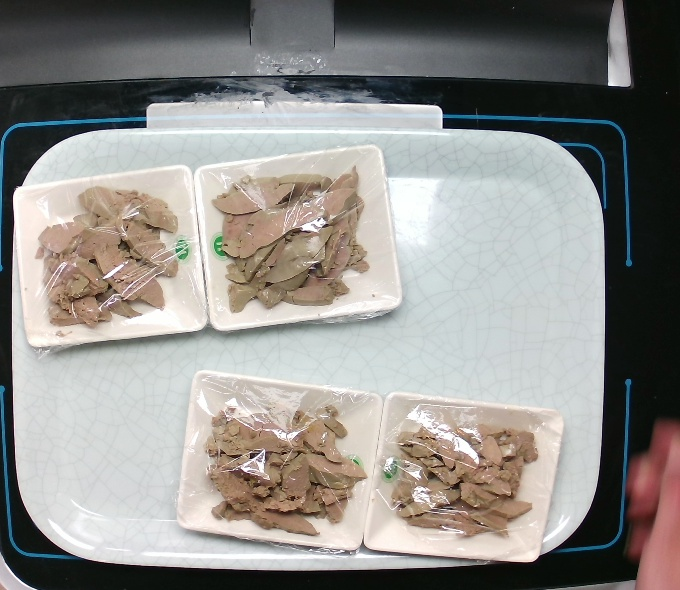wcq-EGan: (193, 390, 359, 543), (30, 182, 192, 335), (218, 174, 382, 312), (384, 415, 541, 541)
